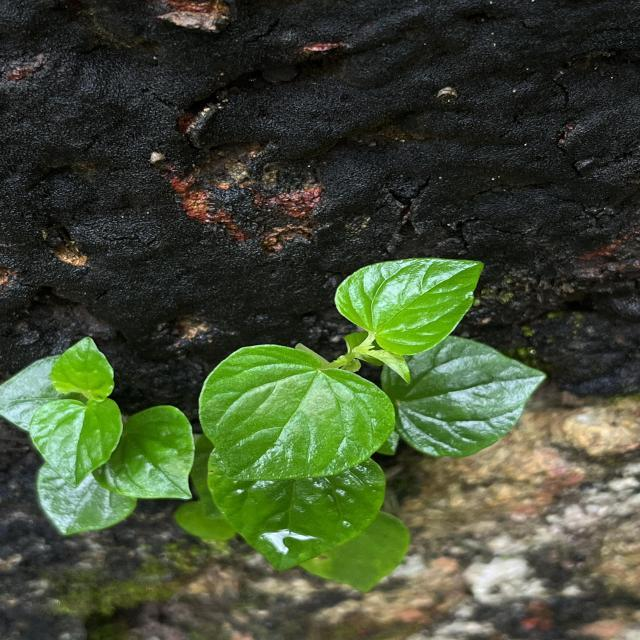Peperomia pellucida: (196, 342, 400, 482), (333, 255, 487, 357)
